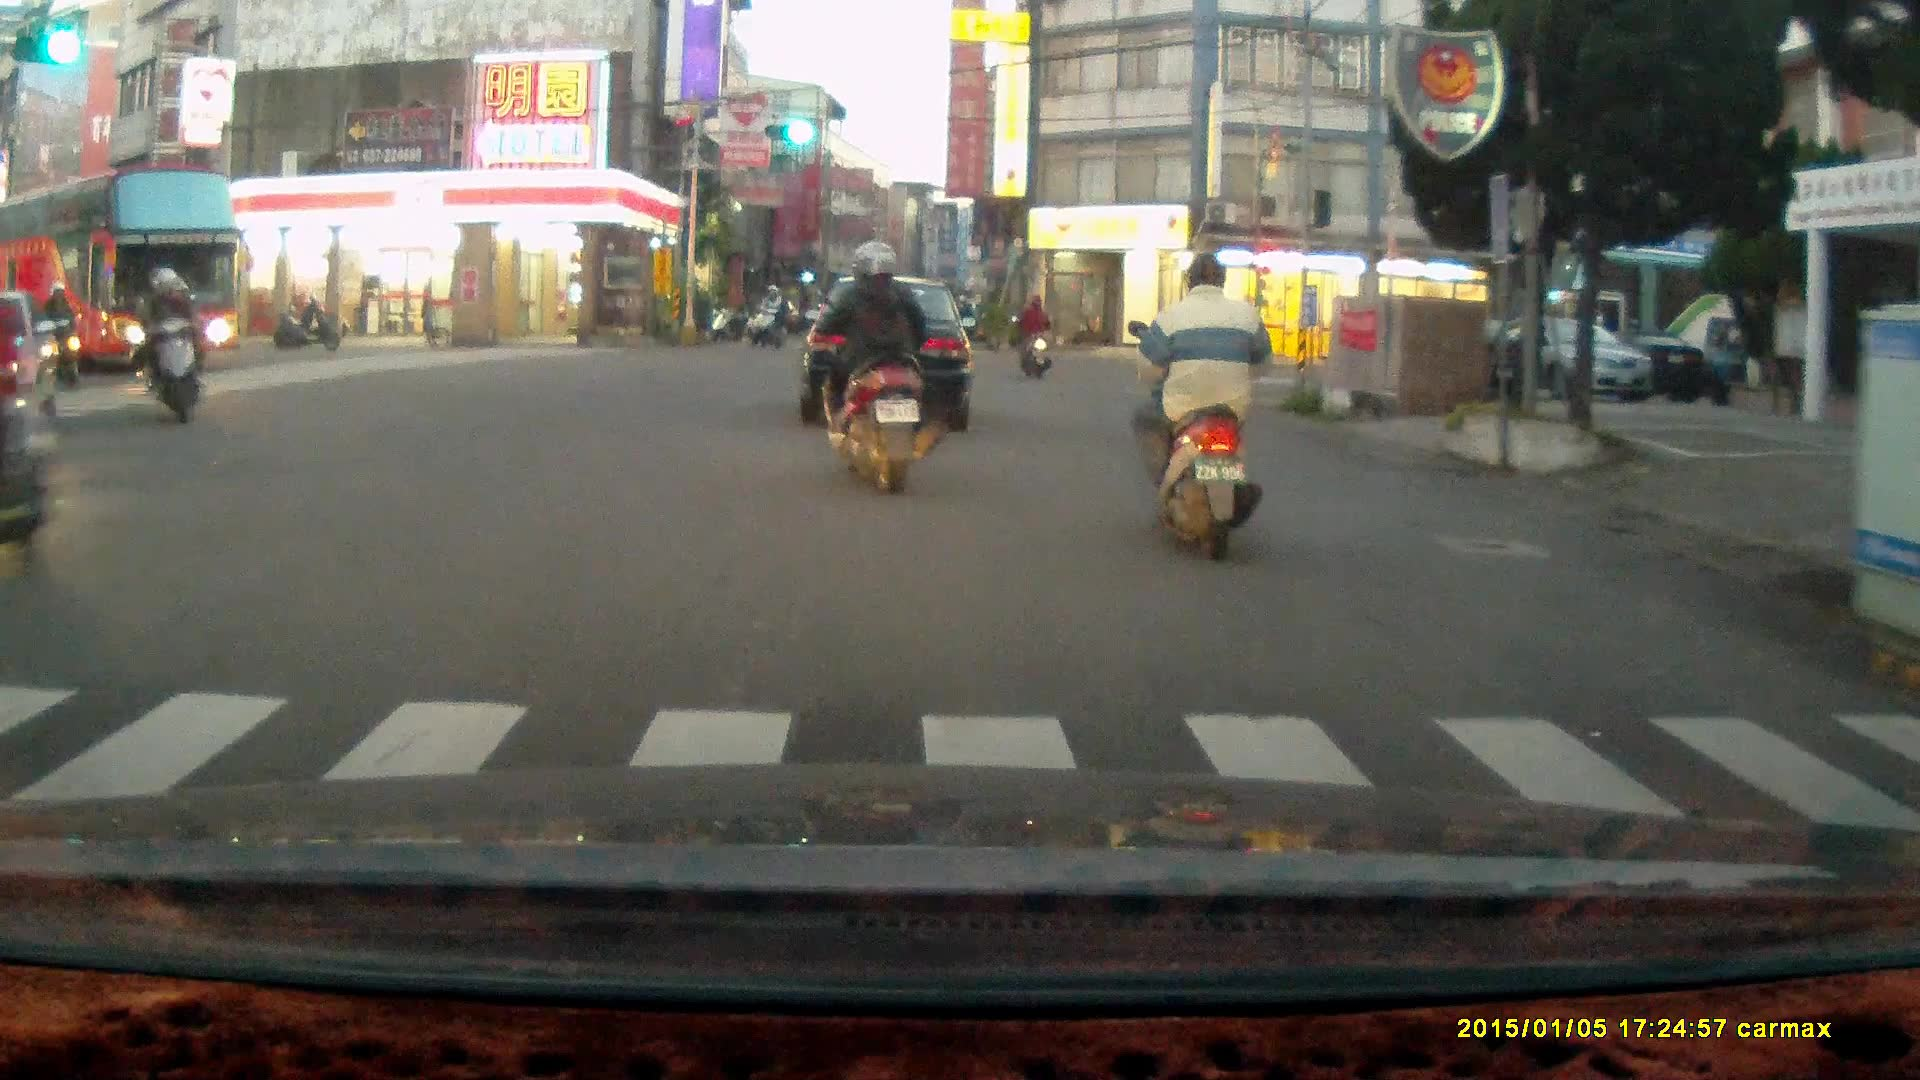rider: (1127, 250, 1270, 560), (808, 234, 947, 500), (133, 265, 203, 425), (38, 280, 84, 383), (1009, 296, 1054, 382), (750, 284, 785, 349)
vehicle: (1, 171, 240, 371), (1446, 313, 1657, 402)
